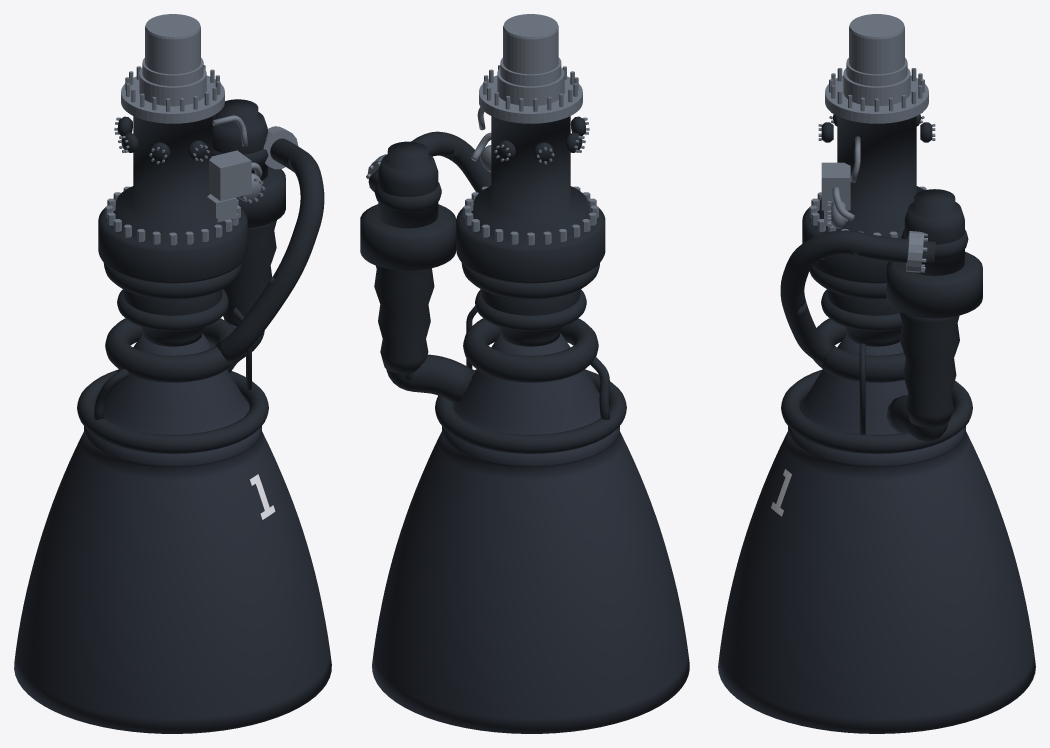
File: raptor3.glb
3 renders of one model, left to right at view 1: azimuth 30°, elevation 25°; view 2: azimuth 150°, elevation 25°; view 3: azimuth 270°, elevation 25°, orthographic.
Visible parts, largest first — view 1: raptor3_nozzle, raptor3_powerhead, raptor3_s_pipe, raptor3_gimbal_cap, raptor3_nozzle_manifold, raptor3_throat_manifold, raptor3_ribbed_duct, raptor3_turbopump, raptor3_chamber, raptor3_top_flange, raptor3_ring_upper, raptor3_ring_chamber (+7 smaller); view 2: raptor3_nozzle, raptor3_powerhead, raptor3_gimbal_cap, raptor3_ribbed_duct, raptor3_throat_manifold, raptor3_turbopump_housing, raptor3_nozzle_manifold, raptor3_turbopump, raptor3_ribbed_duct_elbow, raptor3_chamber, raptor3_top_flange, raptor3_ring_upper (+6 smaller); view 3: raptor3_nozzle, raptor3_powerhead, raptor3_s_pipe, raptor3_ribbed_duct, raptor3_gimbal_cap, raptor3_nozzle_manifold, raptor3_turbopump_housing, raptor3_turbopump, raptor3_throat_manifold, raptor3_top_flange, raptor3_chamber, raptor3_ring_chamber (+8 smaller).
Boxes of the visible parts, x1,y1,x2,y2 form: raptor3_nozzle: (14, 333, 331, 733); raptor3_powerhead: (98, 108, 247, 283); raptor3_s_pipe: (215, 138, 324, 363); raptor3_gimbal_cap: (139, 14, 206, 106); raptor3_nozzle_manifold: (77, 369, 268, 453); raptor3_throat_manifold: (105, 318, 236, 382); raptor3_ribbed_duct: (223, 220, 276, 326); raptor3_turbopump: (212, 99, 267, 180); raptor3_chamber: (123, 290, 222, 346); raptor3_top_flange: (121, 75, 224, 123); raptor3_ring_upper: (103, 263, 242, 299); raptor3_ring_chamber: (117, 289, 228, 331); raptor3_nozzle: (372, 333, 689, 733); raptor3_powerhead: (456, 116, 605, 283); raptor3_gimbal_cap: (497, 14, 564, 106); raptor3_ribbed_duct: (374, 266, 434, 373); raptor3_throat_manifold: (463, 318, 598, 382); raptor3_turbopump_housing: (360, 204, 456, 270); raptor3_nozzle_manifold: (435, 369, 626, 453); raptor3_turbopump: (378, 141, 438, 228); raptor3_ribbed_duct_elbow: (386, 354, 473, 403); raptor3_chamber: (481, 290, 580, 346); raptor3_top_flange: (479, 75, 582, 123); raptor3_ring_upper: (461, 263, 599, 299); raptor3_nozzle: (718, 333, 1035, 733); raptor3_powerhead: (802, 116, 924, 283); raptor3_s_pipe: (780, 230, 935, 364); raptor3_ribbed_duct: (899, 312, 959, 427); raptor3_gimbal_cap: (843, 14, 910, 106); raptor3_nozzle_manifold: (781, 369, 972, 453); raptor3_turbopump_housing: (886, 251, 982, 318); raptor3_turbopump: (904, 189, 964, 275); raptor3_throat_manifold: (813, 318, 905, 382); raptor3_top_flange: (825, 75, 928, 123); raptor3_chamber: (827, 290, 901, 346); raptor3_ring_chamber: (821, 289, 902, 331).
Bounding box in the file's own units: 1.34 × 2.94 × 1.32.
